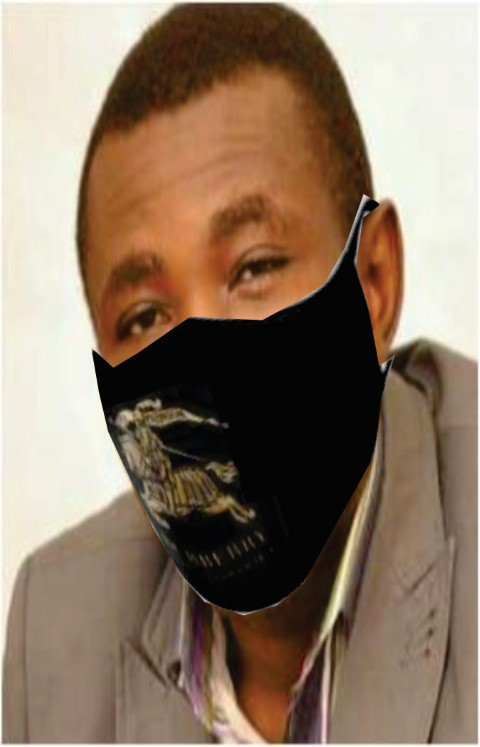with_facemask: (84, 354, 398, 594)
